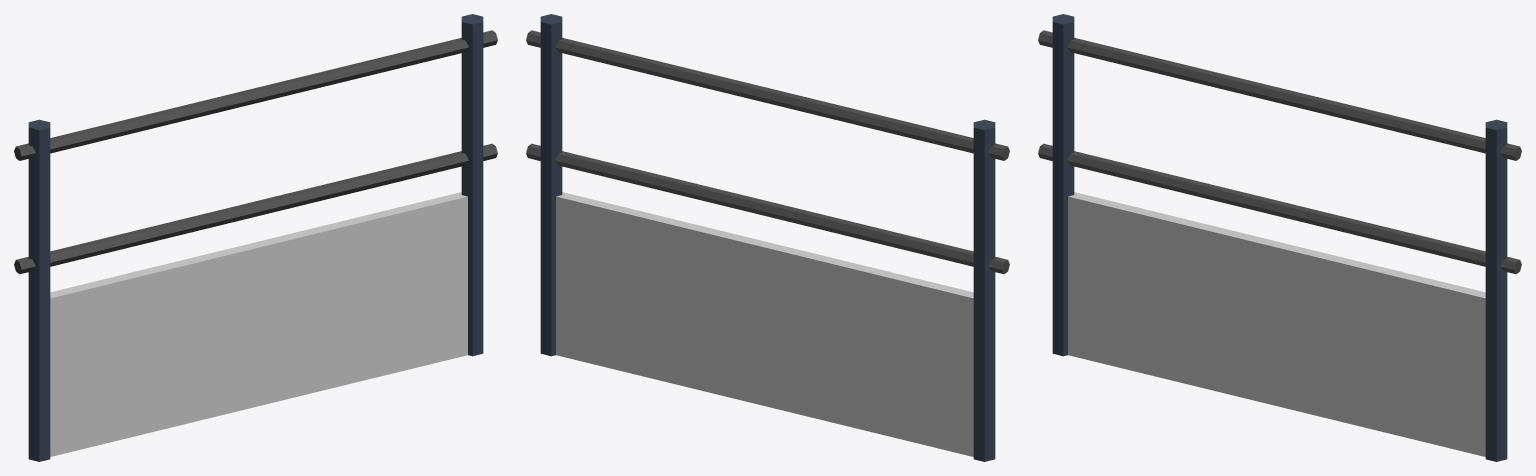
The model's file is GuardrailA.fbx.
3 renders of one model, left to right at view 1: azimuth 30°, elevation 25°; view 2: azimuth 150°, elevation 25°; view 3: azimuth 330°, elevation 25°, orthographic.
Visible parts, largest first — view 1: GuardrailA; view 2: GuardrailA; view 3: GuardrailA.
Part boxes in pixels (x1=…): GuardrailA: x1=14, y1=14, x2=497, y2=461; GuardrailA: x1=526, y1=14, x2=1009, y2=461; GuardrailA: x1=1038, y1=14, x2=1521, y2=461.
Size of the model in its own units: 1.98 by 1.32 by 0.0779.
